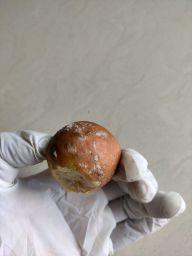lemon: (44, 118, 124, 196)
